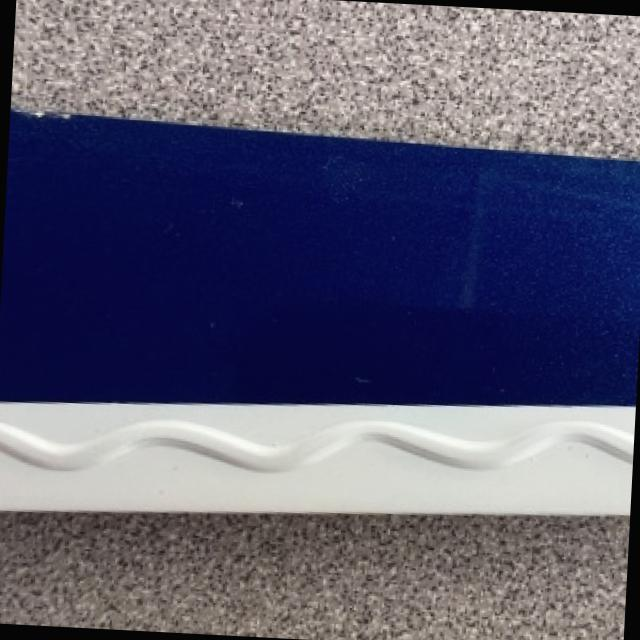healthy: (0, 112, 640, 514), (0, 400, 636, 514)
